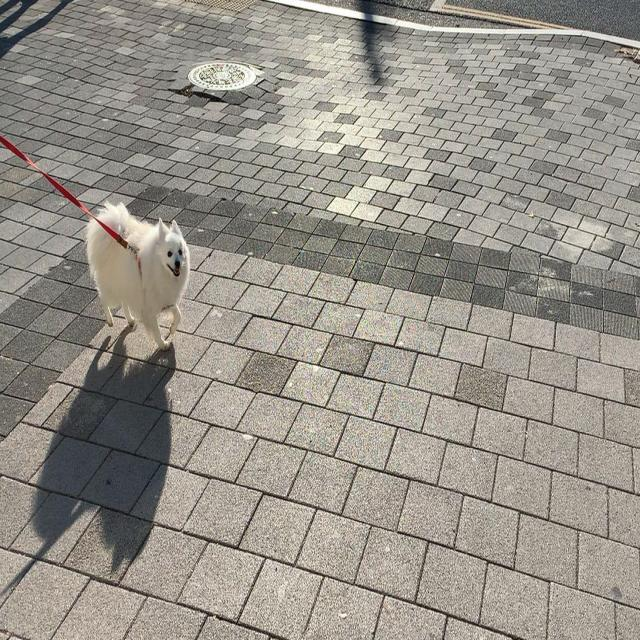Dog: (85, 198, 191, 352)
